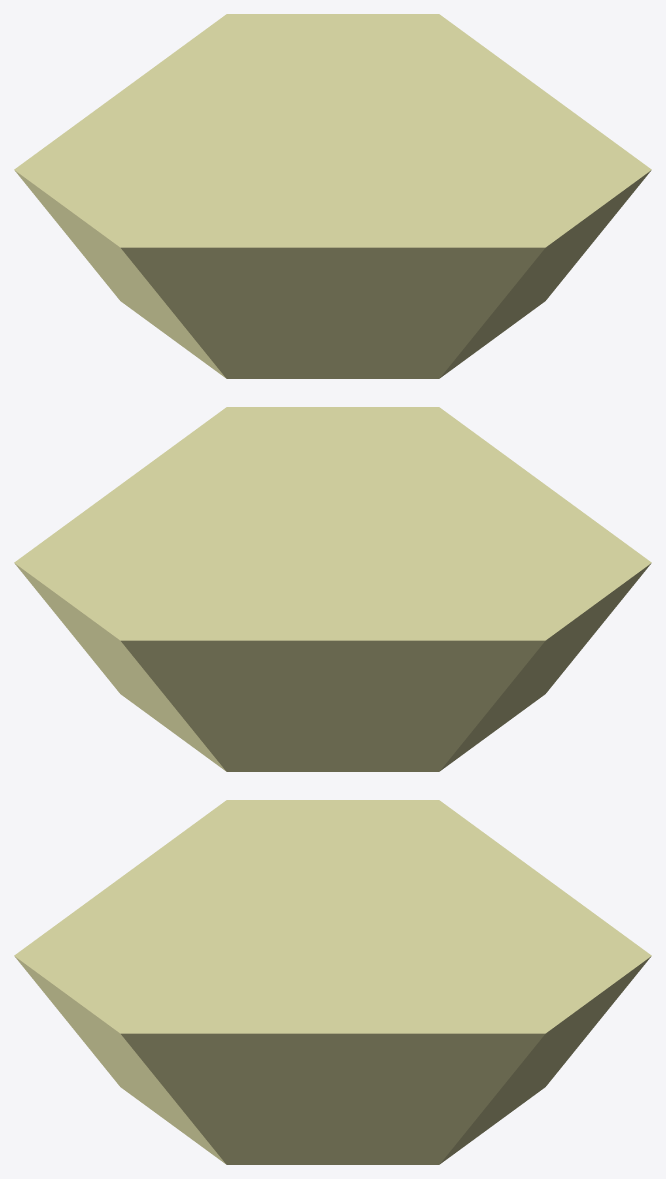
The picture shows the model from 3 angles, top to bottom: view 1: azimuth 30°, elevation 25°; view 2: azimuth 150°, elevation 25°; view 3: azimuth 270°, elevation 25°; orthographic projection.
Parts seen in each view (by area): view 1: Group1; view 2: Group1; view 3: Group1.
Part boxes in pixels (x1,y1,x2,y2): Group1: [14, 14, 651, 378]; Group1: [14, 407, 651, 771]; Group1: [14, 800, 651, 1164].
Size of the model in its own units: 10.39 by 3.26 by 12.
